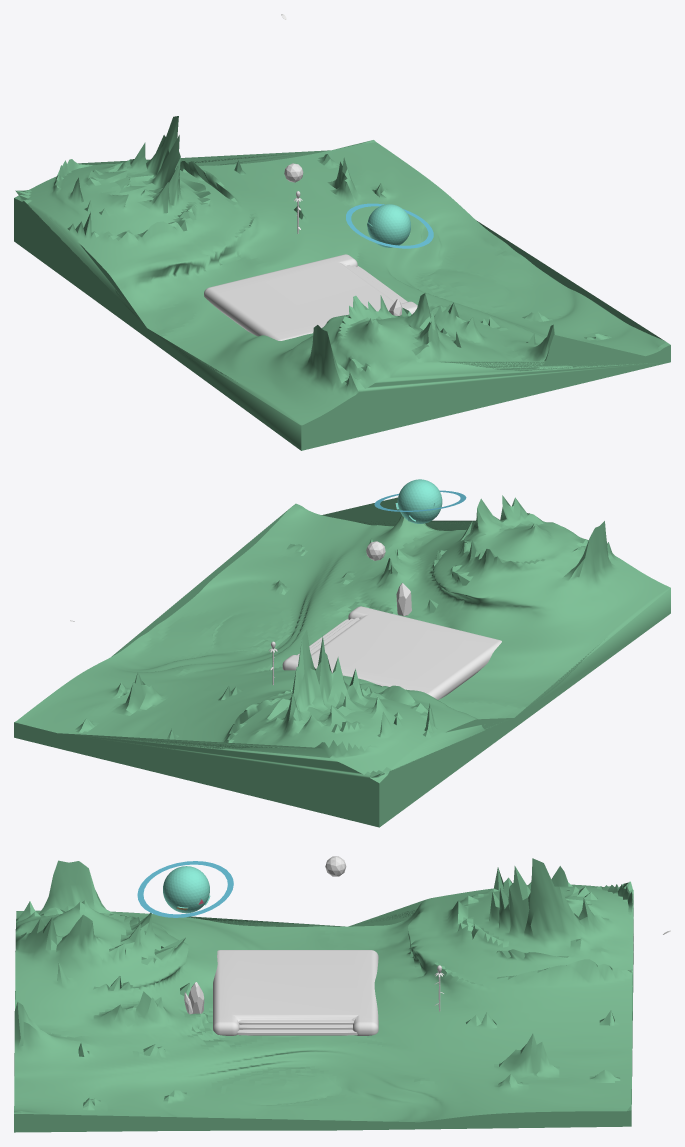
3 renders of one model, top to bottom at view 1: azimuth 30°, elevation 25°; view 2: azimuth 150°, elevation 25°; view 3: azimuth 270°, elevation 25°, orthographic. The views are drawn at different scales.
Visible parts, largest first — view 1: dixing, 平面, 星球1, 星球1环; view 2: dixing, 平面, 星球1; view 3: dixing, 平面, 台阶, 星球1, 星球1环.
Part boxes in pixels (<box>): dixing: <box>14,116,670,450</box>; 平面: <box>204,254,417,340</box>; 星球1: <box>367,204,410,247</box>; 星球1环: <box>346,203,433,248</box>; dixing: <box>14,495,670,827</box>; 平面: <box>282,606,501,699</box>; 星球1: <box>395,479,442,523</box>; dixing: <box>14,858,633,1132</box>; 平面: <box>213,950,378,1035</box>; 台阶: <box>237,1020,357,1035</box>; 星球1: <box>163,866,210,913</box>; 星球1环: <box>137,861,233,917</box>.
Size of the model in its own units: 18643 by 7132 by 26633.
